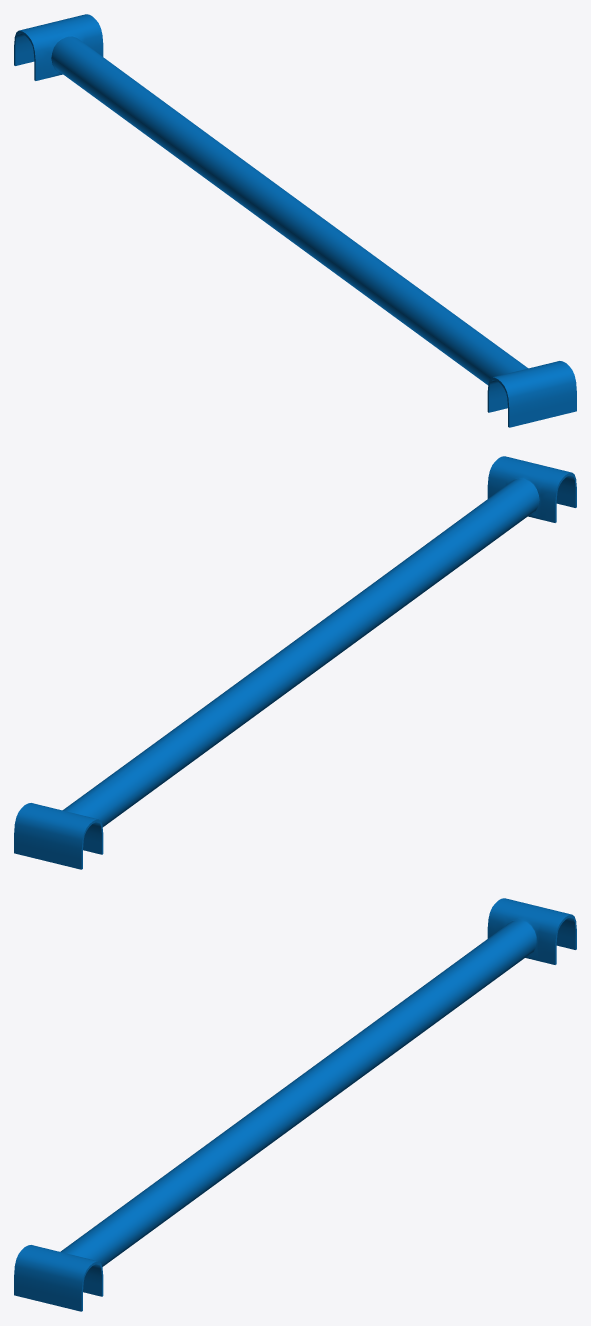
The model's file is Intermediate transom_1m.fbx.
The picture shows the model from 3 angles, top to bottom: view 1: azimuth 30°, elevation 25°; view 2: azimuth 150°, elevation 25°; view 3: azimuth 330°, elevation 25°; orthographic projection.
Visible parts, largest first — view 1: Intermediate_transoms1:Intermediate_transoms_Geo1_1_meter; view 2: Intermediate_transoms1:Intermediate_transoms_Geo1_1_meter; view 3: Intermediate_transoms1:Intermediate_transoms_Geo1_1_meter.
Boxes of the visible parts, x1=… form: Intermediate_transoms1:Intermediate_transoms_Geo1_1_meter: x1=14, y1=14, x2=576, y2=427; Intermediate_transoms1:Intermediate_transoms_Geo1_1_meter: x1=14, y1=456, x2=576, y2=869; Intermediate_transoms1:Intermediate_transoms_Geo1_1_meter: x1=14, y1=898, x2=576, y2=1311.
Bounding box in the file's own units: 0.0862 × 0.0492 × 1.09.
